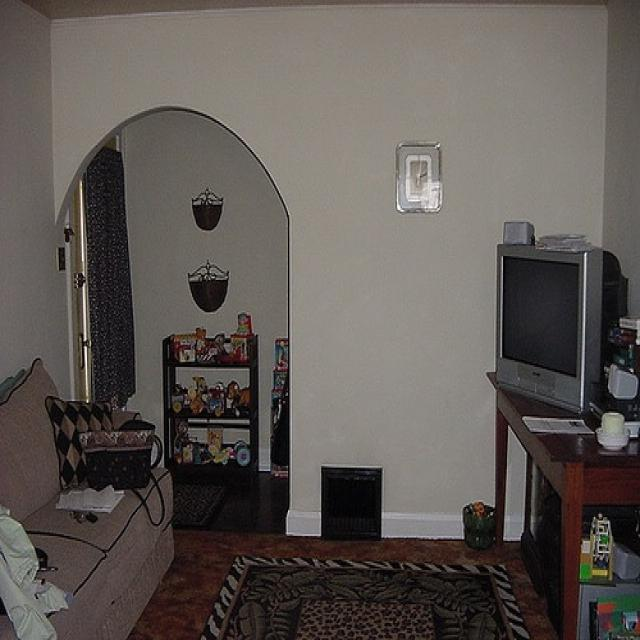sofa: (0, 355, 177, 638)
tvmonitor: (490, 241, 630, 413)
